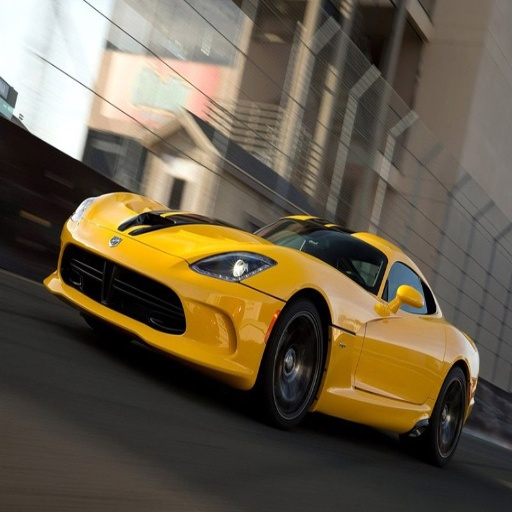front_right_door: (356, 269, 444, 403)
